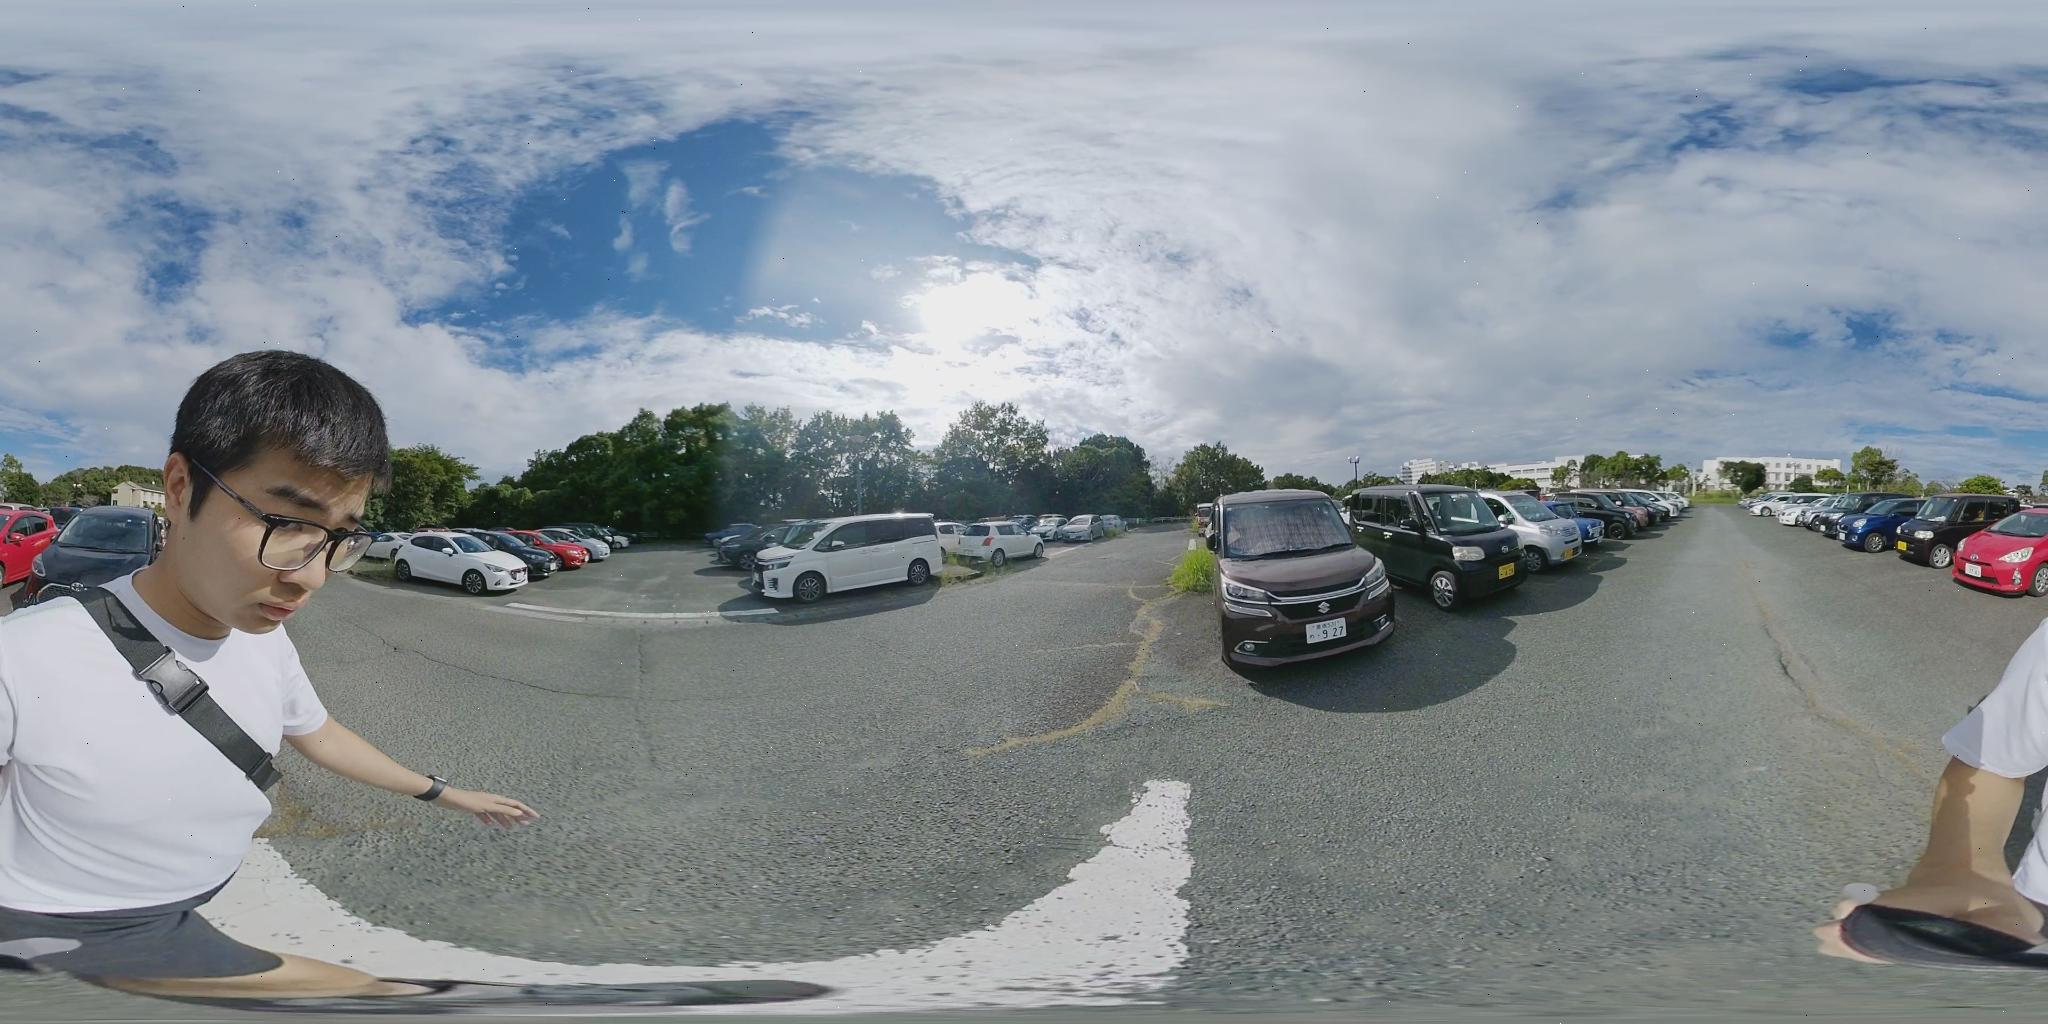car: (1209, 494, 1395, 664), (1344, 487, 1596, 609), (717, 516, 947, 602), (1889, 496, 2024, 567), (391, 533, 534, 597), (1951, 504, 2048, 596), (1561, 488, 1691, 532), (474, 529, 600, 569), (946, 521, 1048, 564), (533, 526, 619, 563), (1042, 519, 1098, 546)
